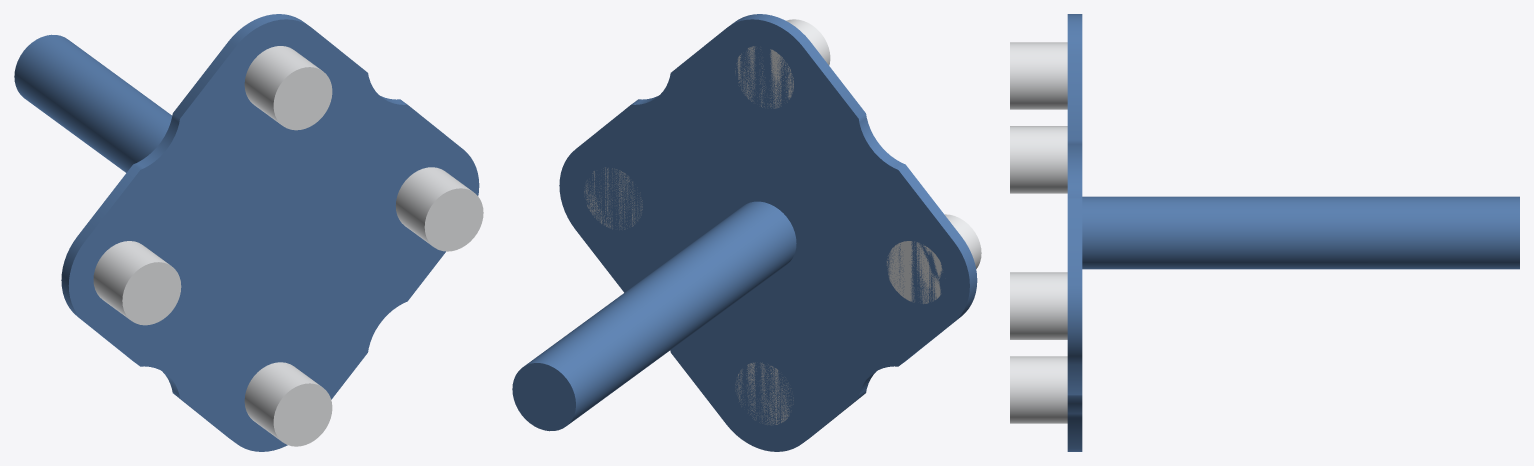
The model's file is carrier.glb.
3 views of the same model, side by side, from view 1: azimuth 30°, elevation 25°; view 2: azimuth 150°, elevation 25°; view 3: azimuth 270°, elevation 25° (orthographic).
Parts seen in each view (by area): view 1: carrier_0, pin_1; view 2: carrier_0, pin_1; view 3: carrier_0, pin_1.
Boxes of the visible parts, x1,y1,x2,y2 form: carrier_0: (14, 14, 479, 451); pin_1: (93, 46, 483, 446); carrier_0: (512, 14, 977, 451); pin_1: (584, 19, 981, 425); carrier_0: (1067, 14, 1519, 451); pin_1: (1010, 42, 1067, 423).
Size of the model in its own units: 0.258 by 0.258 by 0.2795.
